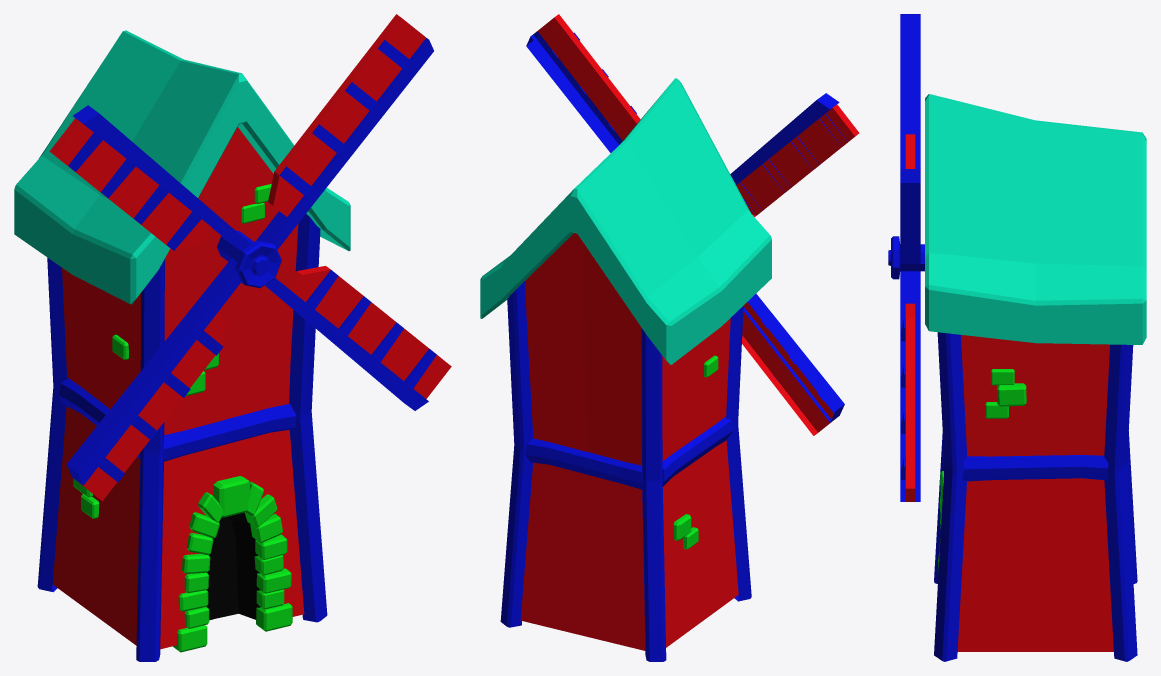
The model's file is SM_Mill1.fbx.
The picture shows the model from 3 angles, left to right: view 1: azimuth 30°, elevation 25°; view 2: azimuth 150°, elevation 25°; view 3: azimuth 270°, elevation 25°; orthographic projection. The views are drawn at different scales.
Parts seen in each view (by area): view 1: SM_Mill1; view 2: SM_Mill1; view 3: SM_Mill1.
Boxes of the visible parts, bbox=[...] form: SM_Mill1: bbox=[14, 14, 451, 661]; SM_Mill1: bbox=[480, 14, 859, 661]; SM_Mill1: bbox=[888, 14, 1146, 661].
Size of the model in its own units: 430 by 623 by 264.
